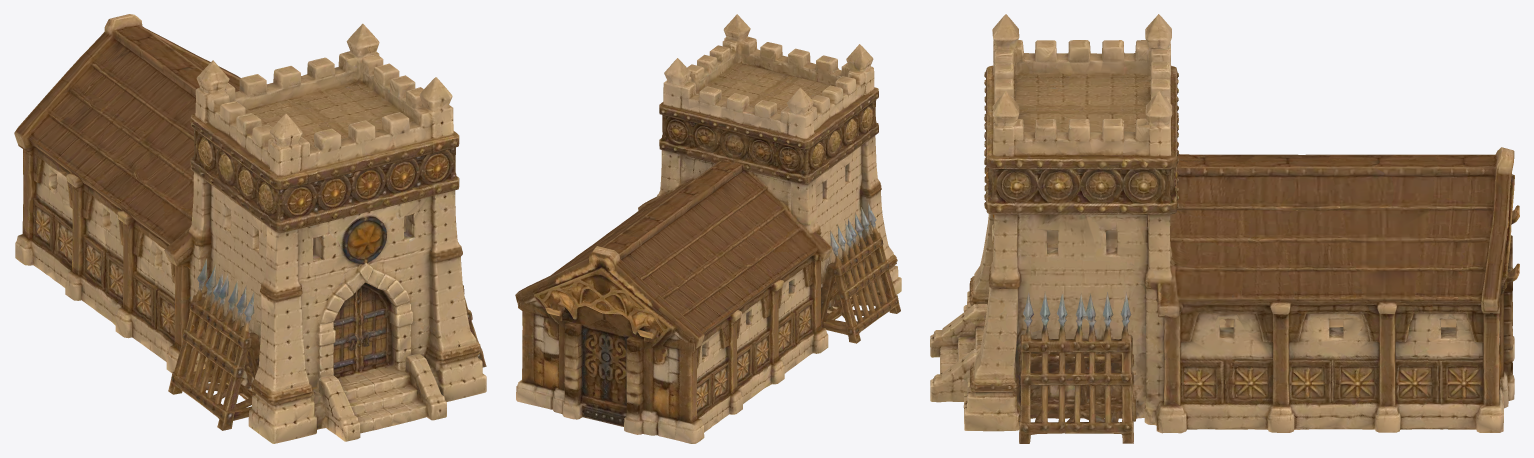
The model's file is BarracksHall.glb.
3 views of the same model, side by side, from view 1: azimuth 30°, elevation 25°; view 2: azimuth 150°, elevation 25°; view 3: azimuth 270°, elevation 25° (orthographic). The views are drawn at different scales.
Size of the model in its own units: 1.03 by 1.15 by 1.9.
Materials: 1 (1 with a texture image).
